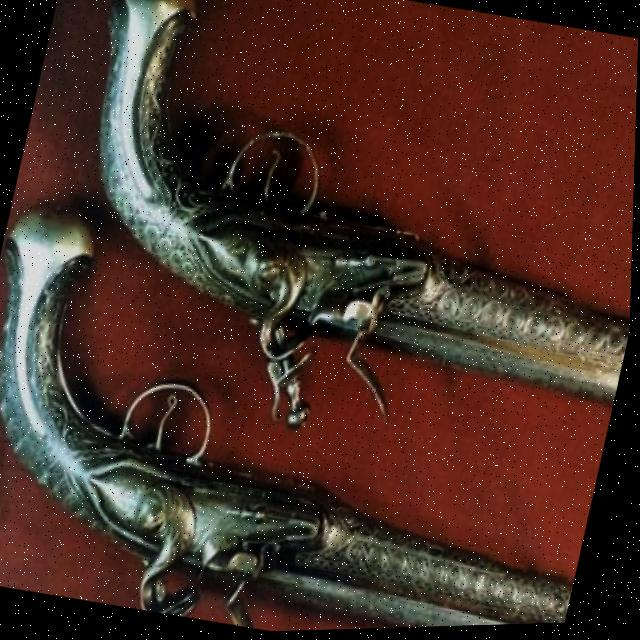pistol: (22, 0, 640, 495), (0, 182, 635, 640)
